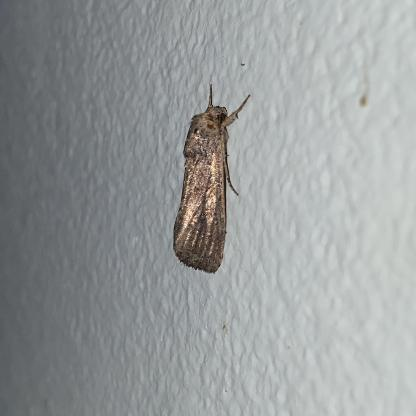Fall Armyworm Moth: (170, 82, 252, 276)
